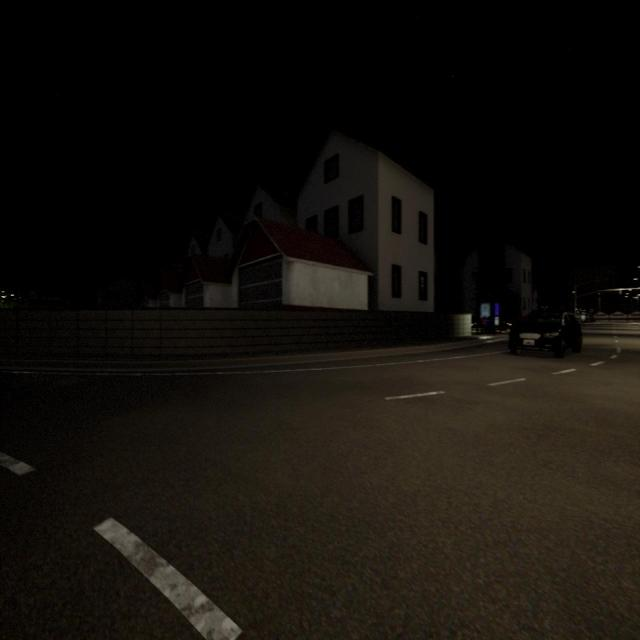Vehicle: (510, 312, 580, 356)
